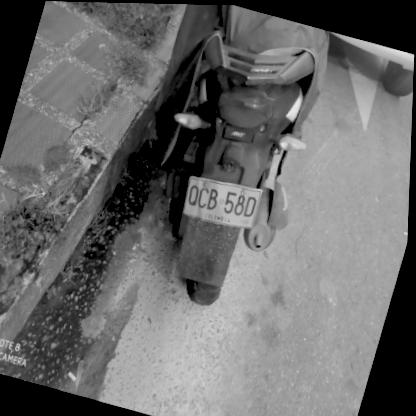placa: (172, 161, 271, 235)
